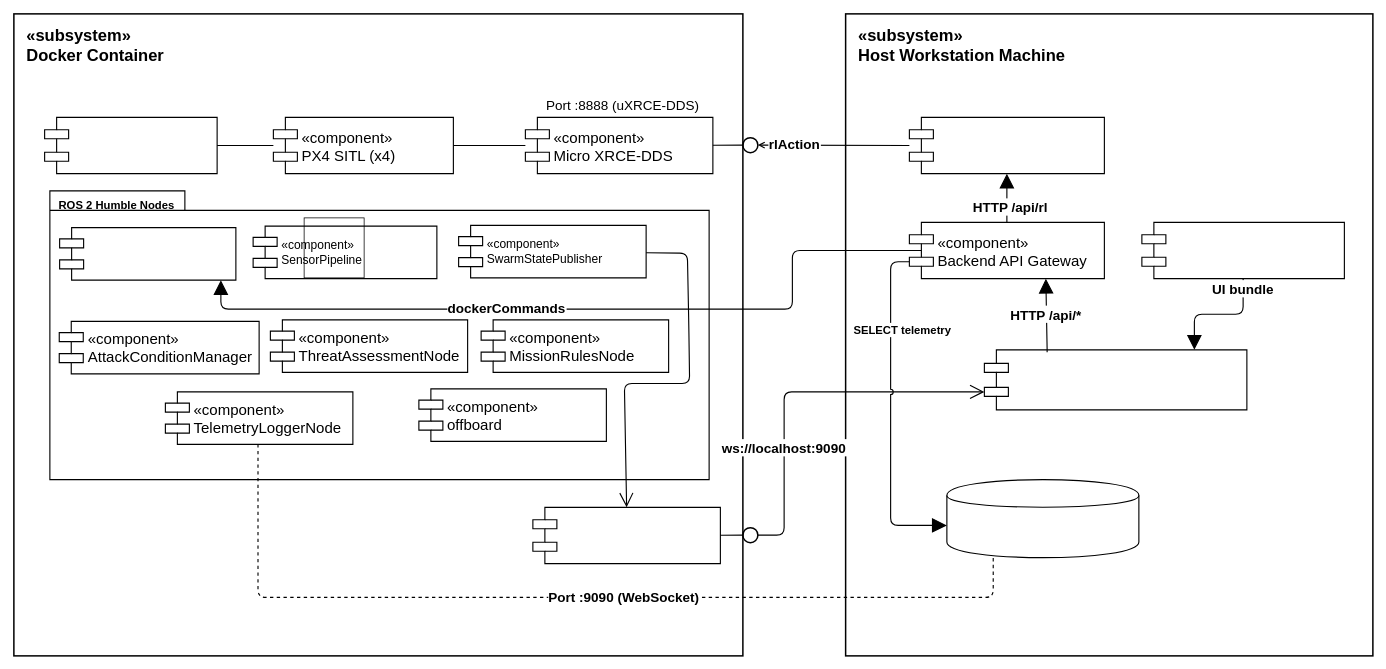
Image size: 1386x669. Some labels were removed from this diagram. The shapes that lost their labels are listed below. From the top down, each one's centre as x and y in pixels, then its label:
point 130,145: «component» Gazebo Harmonic
point 1006,145: «component» RL Policy Server
point 147,253: «component» SwarmCoordinator
point 1243,250: «component» Frontend Server
point 1115,379: «component» GCS Web Dashboard
point 626,535: «component» rosbridge server
point 1042,518: «database» SQLite Database
